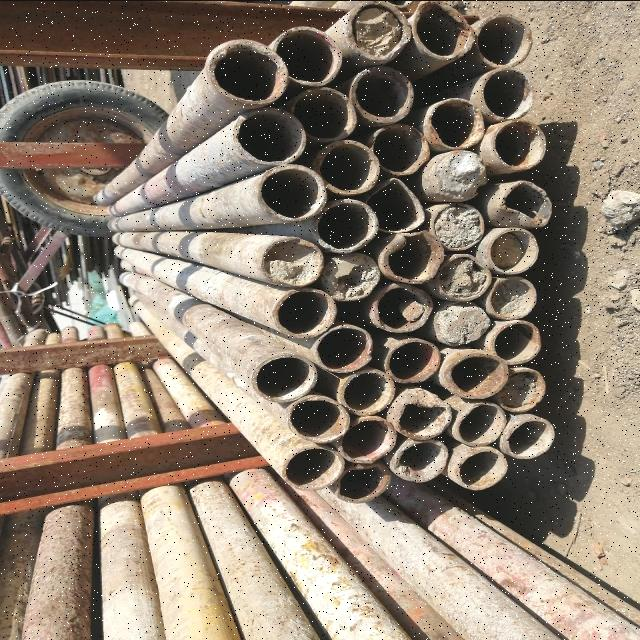pipe: (208, 37, 288, 103), (228, 107, 308, 165), (272, 24, 344, 84), (344, 0, 414, 60), (252, 165, 326, 221), (314, 140, 380, 198), (266, 287, 338, 338), (414, 1, 476, 59), (292, 84, 356, 140), (259, 236, 325, 290), (314, 198, 380, 252), (350, 68, 416, 122), (368, 282, 433, 336), (283, 395, 353, 445), (376, 230, 442, 282), (312, 252, 380, 302), (336, 414, 401, 464), (488, 118, 548, 170), (429, 200, 489, 251), (489, 179, 554, 226), (252, 354, 318, 400), (444, 353, 510, 399), (374, 176, 426, 234), (428, 148, 486, 200), (428, 97, 486, 149), (478, 67, 536, 119), (474, 14, 532, 66), (333, 369, 397, 416), (388, 392, 452, 438), (314, 323, 374, 372), (430, 303, 492, 349), (281, 446, 345, 490), (372, 125, 430, 173), (432, 254, 490, 302), (482, 274, 540, 320), (388, 438, 448, 482), (382, 338, 439, 384), (332, 461, 392, 504), (486, 226, 540, 273), (488, 319, 542, 365), (454, 402, 506, 448), (454, 447, 508, 491), (501, 416, 555, 460), (496, 367, 546, 411)
